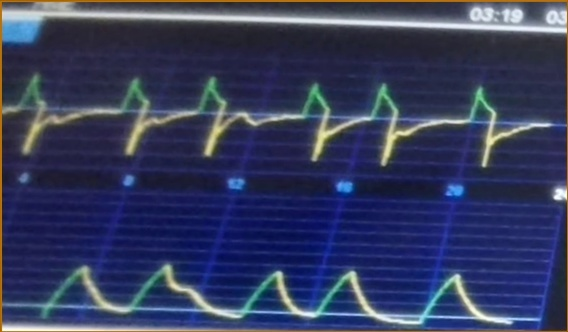Premature_cycling Flow: (5, 63, 547, 172)
Premature_cycling Volume: (14, 228, 520, 328)
